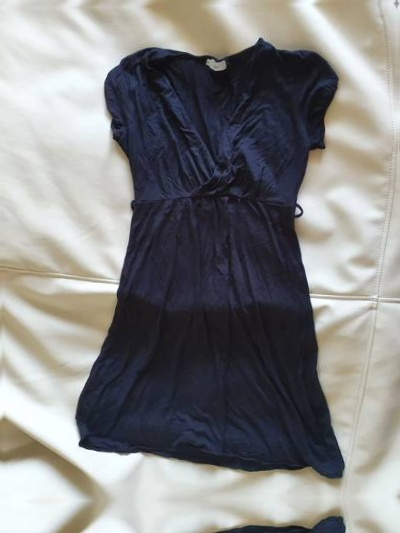Dress: (64, 29, 359, 460)
